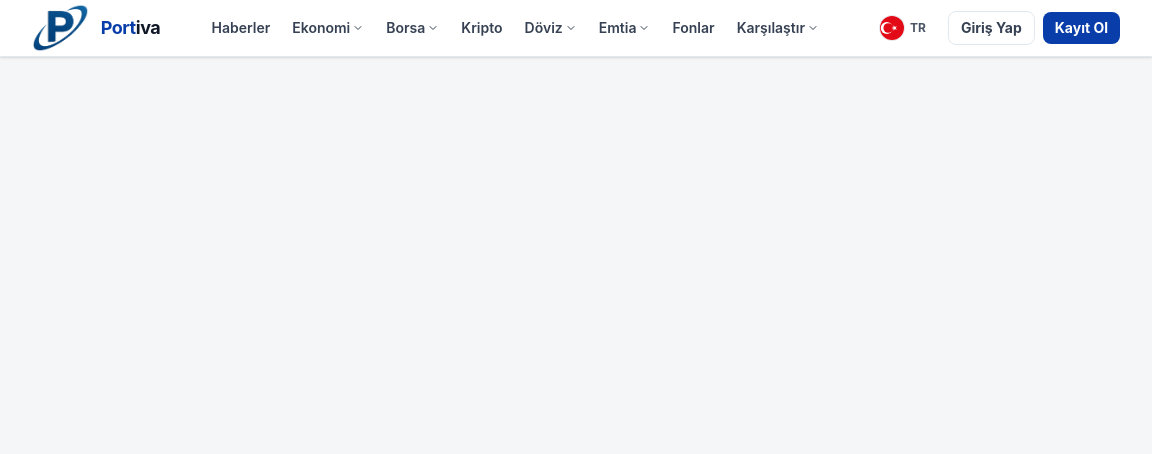
Test case: Header (Vitest + @testing-library/react) › dropdown menüleri (etkileşim) › gruplu "Ekonomi" menüsü grup başlıklarını ve öğelerini render eder
The image size is (1152, 454).
Click the button "Ekonomi".
click(328, 28)  # box [282,10,374,46]
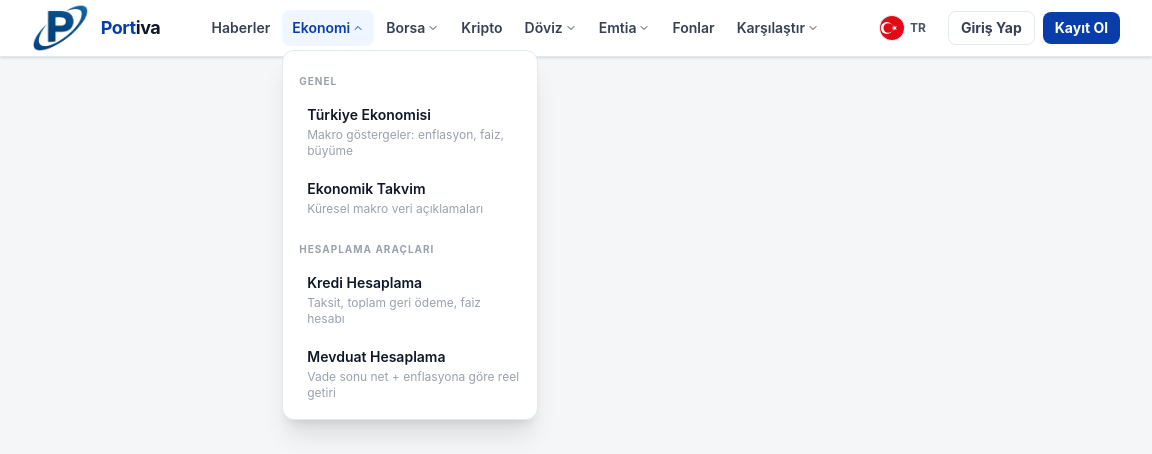
Now the text "Genel" is shown, box [299,75,337,87]
Now the text "Hesaplama Araçları" is shown, box [299,243,434,255]
Now the text "Türkiye Ekonomisi" is shown, box [307,106,431,123]
